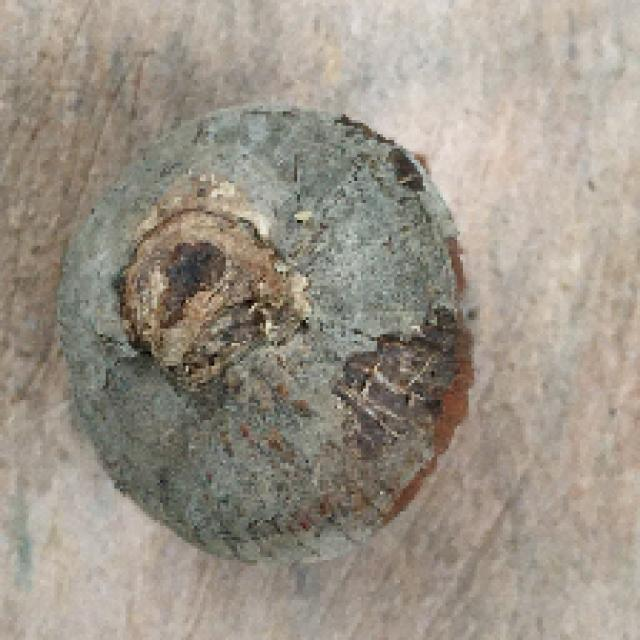damagedHazelnut: (50, 98, 462, 569)
